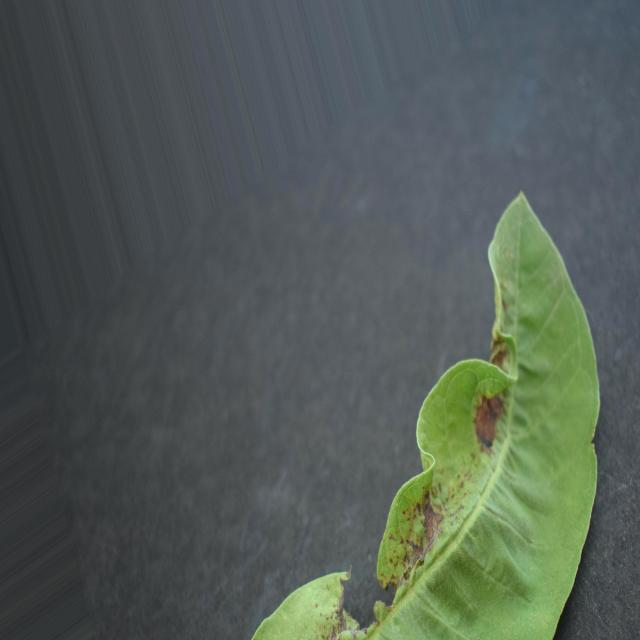Canker: (330, 193, 599, 639)
